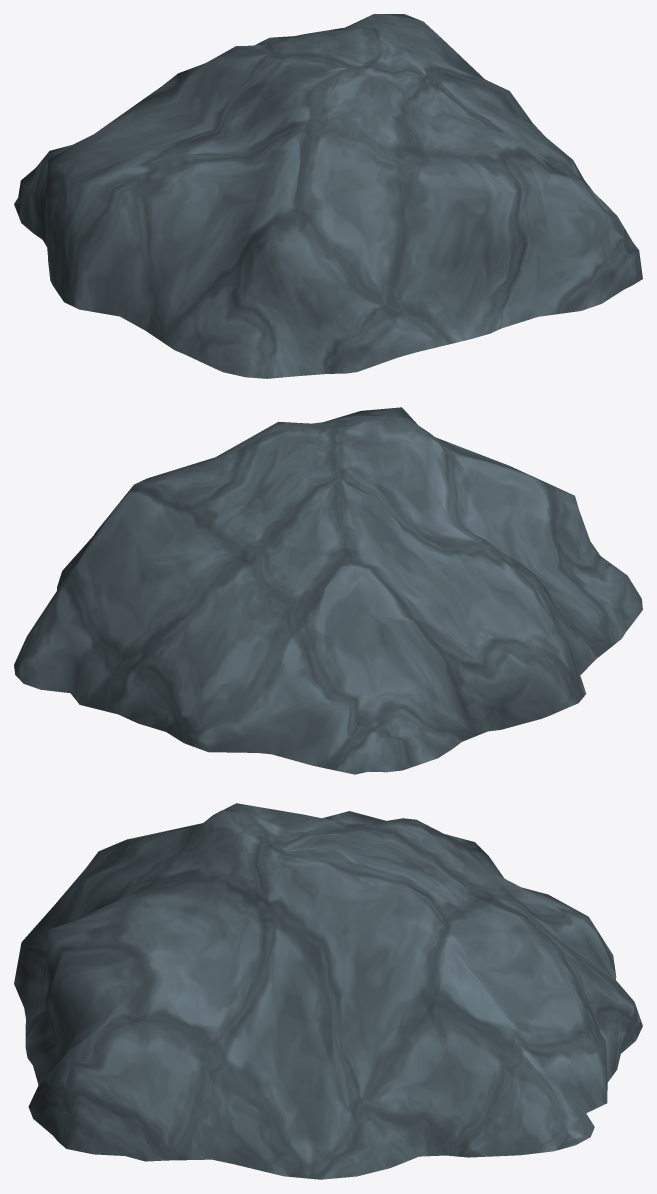
File: rock2.glb
3 renders of one model, top to bottom at view 1: azimuth 30°, elevation 25°; view 2: azimuth 150°, elevation 25°; view 3: azimuth 270°, elevation 25°, orthographic. The views are drawn at different scales.
Visible parts, largest first — view 1: Rock02_LOD0; view 2: Rock02_LOD0; view 3: Rock02_LOD0.
Part boxes in pixels (box(x1,y1,x2,y2)): Rock02_LOD0: box(14, 14, 642, 378); Rock02_LOD0: box(14, 407, 642, 774); Rock02_LOD0: box(14, 803, 642, 1179).
Size of what is drawn, in the model's own units: 9.35 by 3.47 by 9.04.
1 material, 1 textured.
